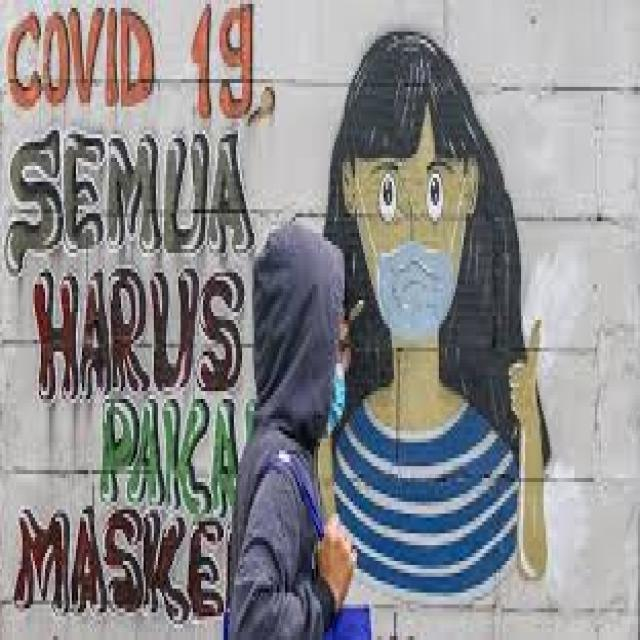-: (7, 0, 276, 628), (326, 29, 551, 596)
